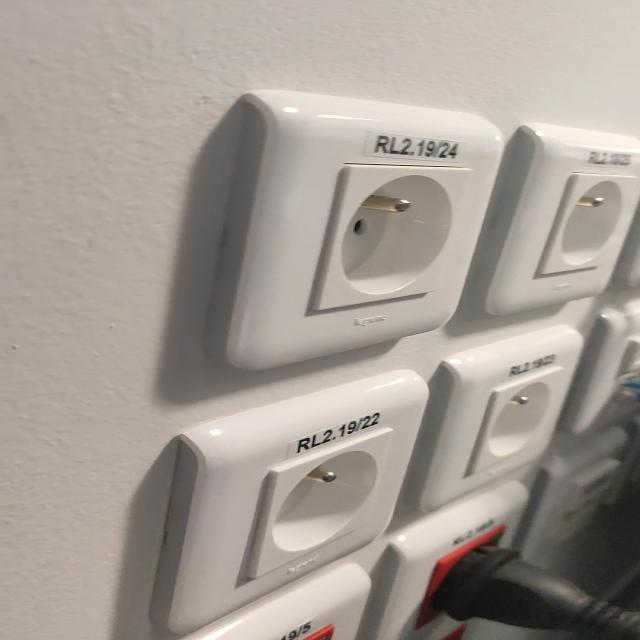house plug: (311, 164, 475, 313), (251, 426, 393, 577), (471, 368, 568, 477), (538, 172, 637, 275)
